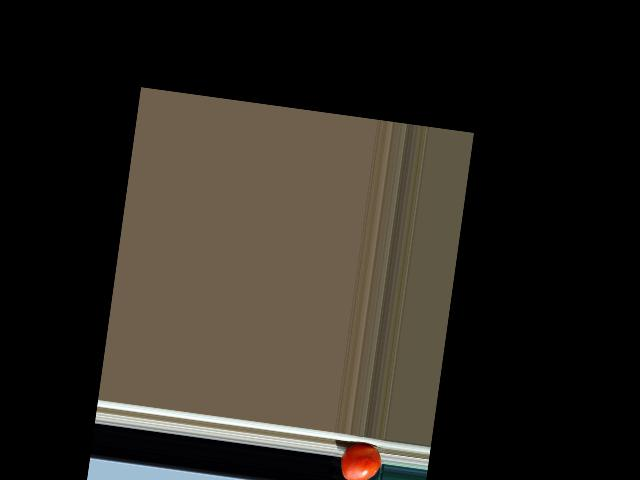tomato: (338, 442, 382, 480)
